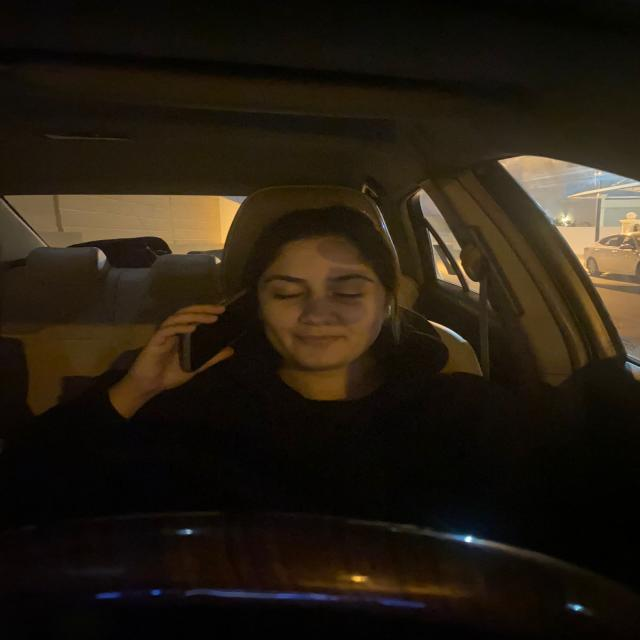phone: (179, 290, 260, 372)
